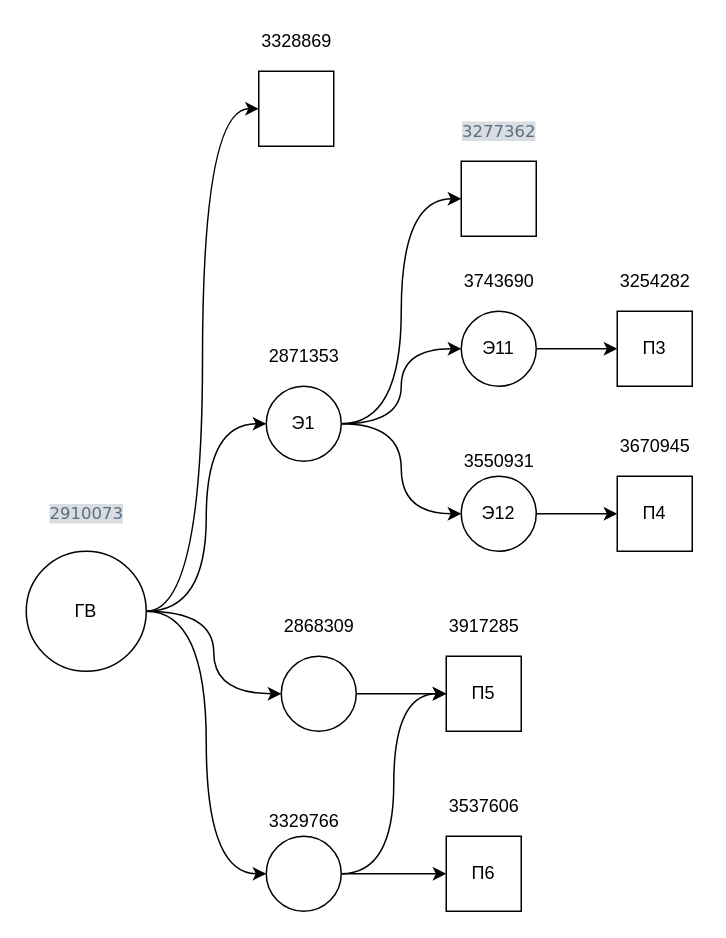
Image size: 726x938. Some labels were removed from this diagram. The centre of each missing label's shape, as x and y in pixels:
"П1" goes at (x=295, y=108).
"ПВ2" goes at (x=498, y=198).
"Э2" goes at (x=318, y=693).
"Э3" goes at (x=303, y=873).
